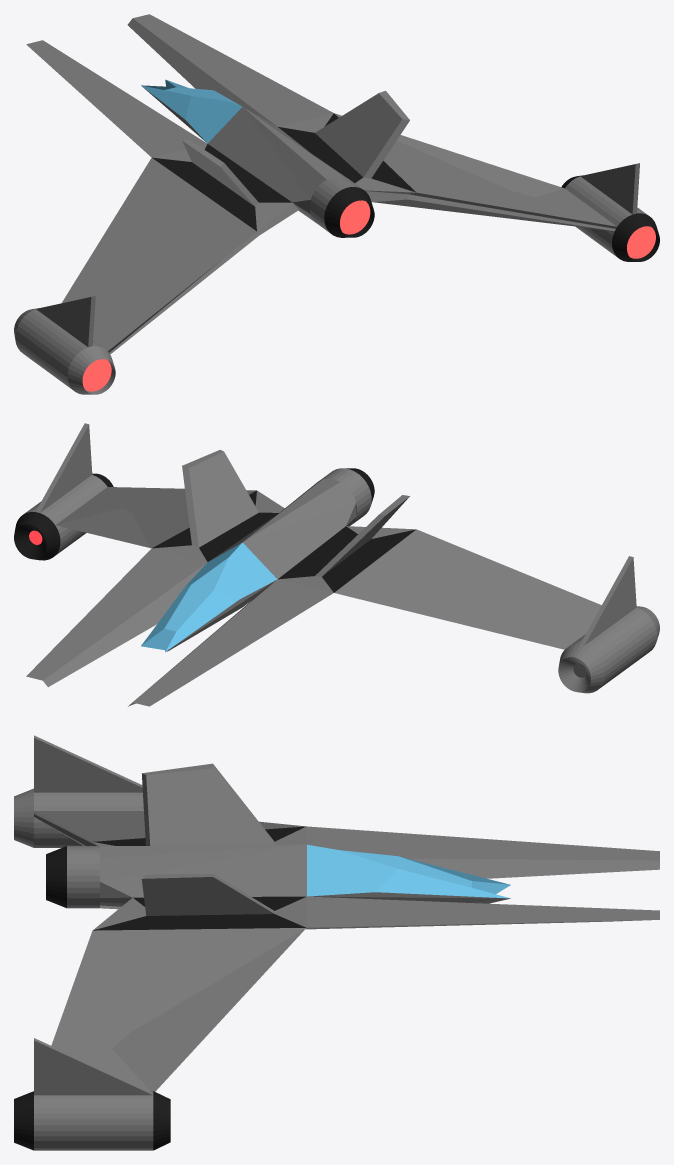
Rendered from Ship.fbx.
The picture shows the model from 3 angles, top to bottom: view 1: azimuth 30°, elevation 25°; view 2: azimuth 150°, elevation 25°; view 3: azimuth 270°, elevation 25°; orthographic projection. The views are drawn at different scales.
Visible parts, largest first — view 1: Cylinder.002; view 2: Cylinder.002; view 3: Cylinder.002.
Part boxes in pixels (x1=…): Cylinder.002: x1=14, y1=14, x2=659, y2=394; Cylinder.002: x1=14, y1=423, x2=659, y2=706; Cylinder.002: x1=14, y1=735, x2=659, y2=1150.
Bounding box in the file's own units: 12996 × 3260 × 10826.
